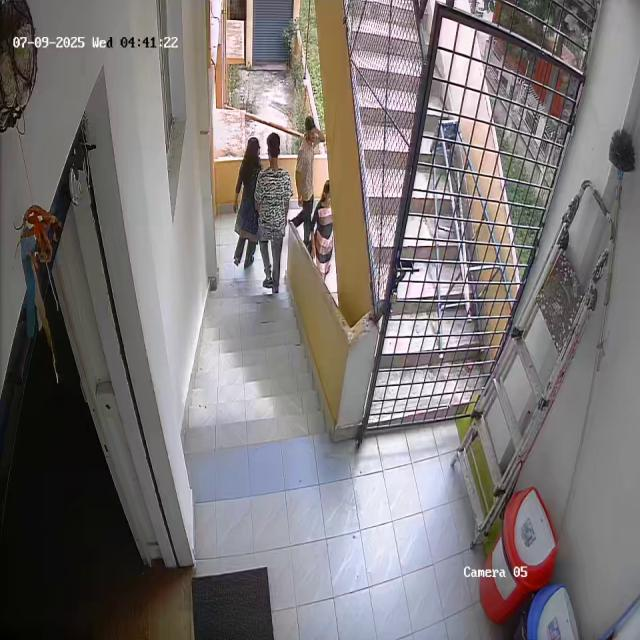person: (258, 133, 292, 294), (234, 136, 260, 268), (296, 117, 320, 246), (312, 180, 338, 282)
